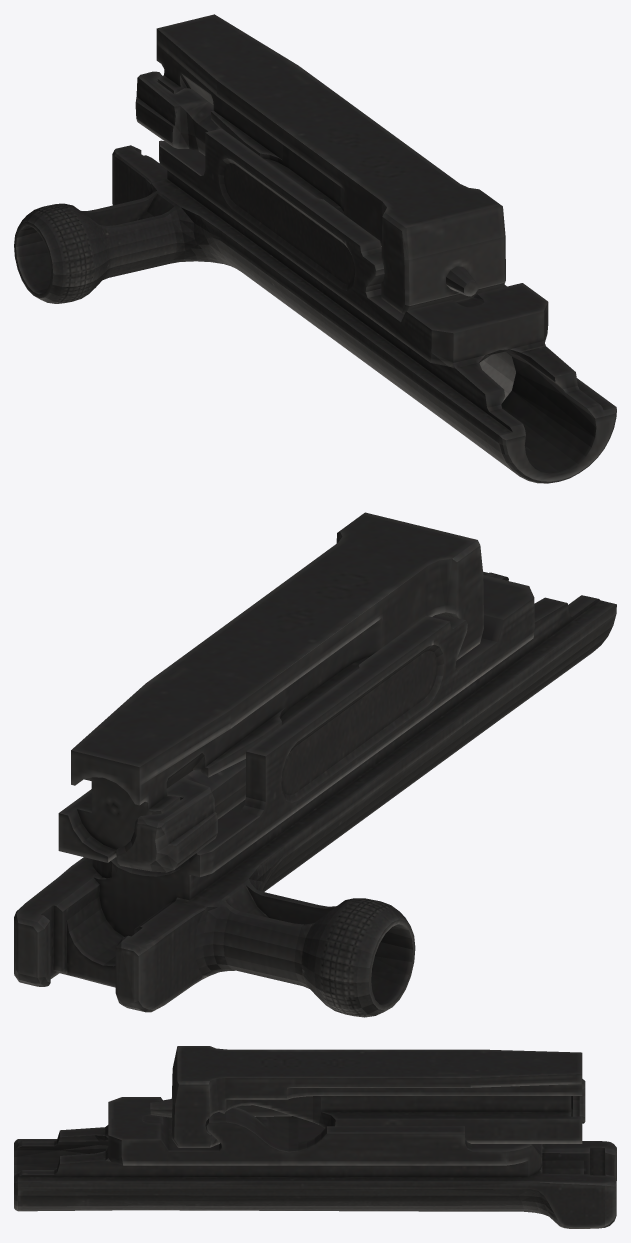
3 views of the same model, one above another, from view 1: azimuth 30°, elevation 25°; view 2: azimuth 150°, elevation 25°; view 3: azimuth 270°, elevation 25° (orthographic). The views are drawn at different scales.
Visible parts, largest first — view 1: TW_587e02ff24597743df3deaeb_PZ_Import; view 2: TW_587e02ff24597743df3deaeb_PZ_Import; view 3: TW_587e02ff24597743df3deaeb_PZ_Import.
Part boxes in pixels (left/top/right/bottom): TW_587e02ff24597743df3deaeb_PZ_Import: left=14, top=14, right=616, bottom=483; TW_587e02ff24597743df3deaeb_PZ_Import: left=14, top=512, right=616, bottom=1017; TW_587e02ff24597743df3deaeb_PZ_Import: left=14, top=1046, right=616, bottom=1228.
Bounding box in the file's own units: 0.0288 × 0.0771 × 0.0218.
Materials: 1 (1 with a texture image).
